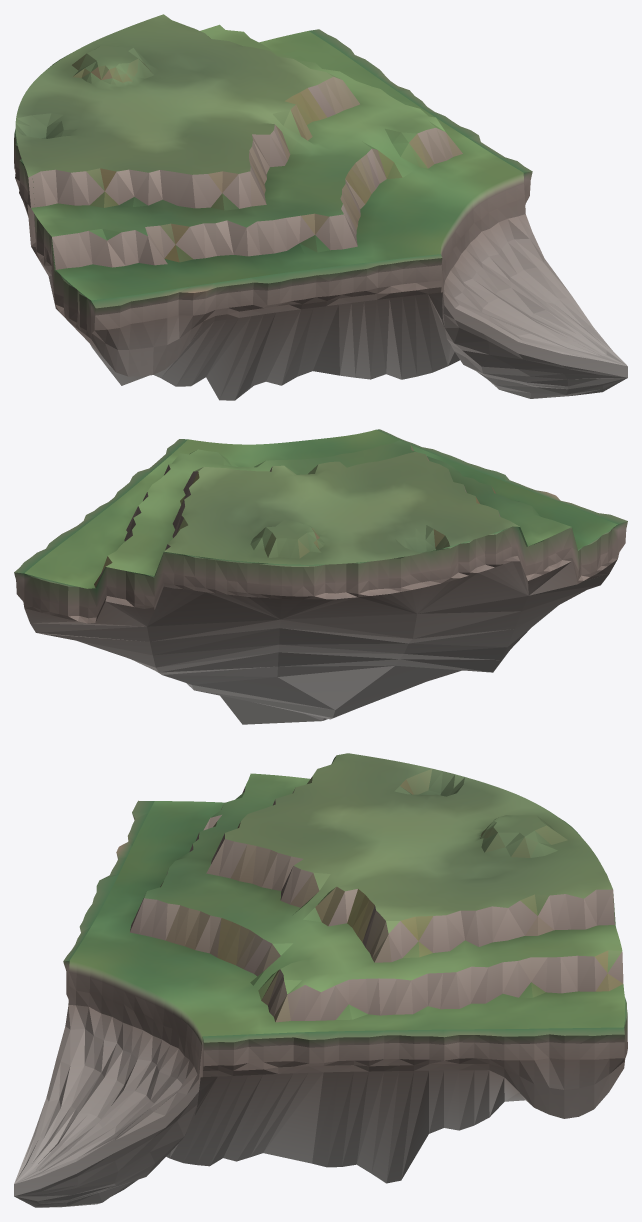
Rendered from piece_highland.glb.
3 renders of one model, top to bottom at view 1: azimuth 30°, elevation 25°; view 2: azimuth 150°, elevation 25°; view 3: azimuth 270°, elevation 25°, orthographic. The views are drawn at different scales.
Parts seen in each view (by area): view 1: piece_highland, skirt_cottage, skirt_orchard; view 2: piece_highland, skirt_orchard, skirt_cottage; view 3: piece_highland, skirt_orchard, skirt_cottage.
Part boxes in pixels (bbox=[...]): piece_highland: bbox=[14, 14, 627, 400]; skirt_cottage: bbox=[91, 254, 442, 376]; skirt_orchard: bbox=[309, 29, 532, 204]; piece_highland: bbox=[24, 429, 617, 724]; skirt_orchard: bbox=[14, 439, 187, 606]; skirt_cottage: bbox=[376, 429, 627, 557]; piece_highland: bbox=[14, 753, 627, 1207]; skirt_orchard: bbox=[202, 1027, 624, 1118]; skirt_cottage: bbox=[63, 800, 154, 998].
Bounding box in the file's own units: 25.77 × 14.74 × 27.3.
